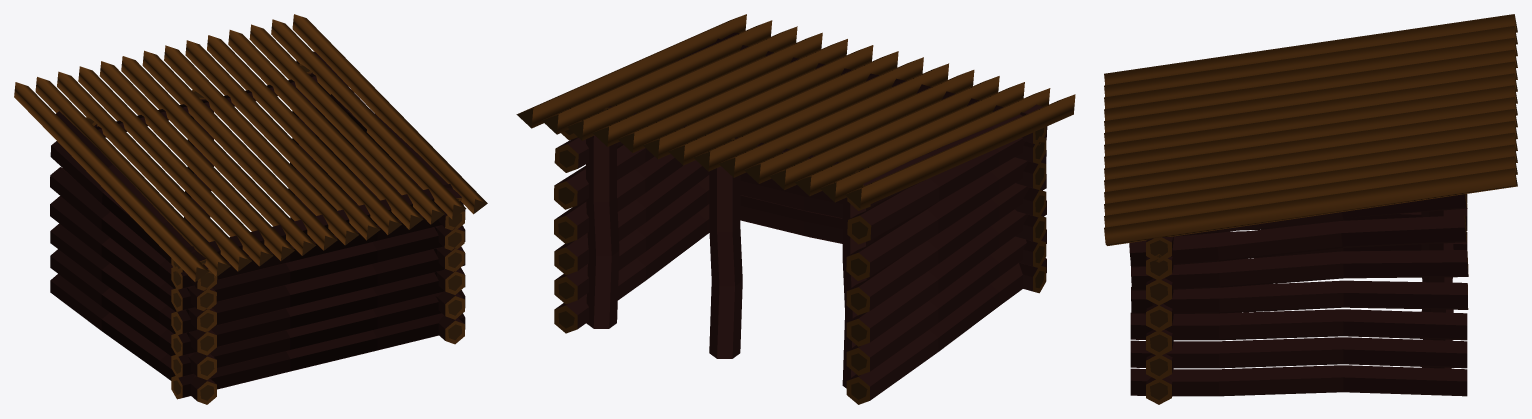
Rendered from pitsGarage_1.fbx.
The picture shows the model from 3 angles, left to right: view 1: azimuth 30°, elevation 25°; view 2: azimuth 150°, elevation 25°; view 3: azimuth 270°, elevation 25°; orthographic projection. The views are drawn at different scales.
Visible parts, largest first — view 1: pitsGarage_1; view 2: pitsGarage_1; view 3: pitsGarage_1.
Boxes of the visible parts, x1,y1,x2,y2 form: pitsGarage_1: (14,14,487,404); pitsGarage_1: (516,14,1075,404); pitsGarage_1: (1104,14,1517,404).
Size of the model in its own units: 7.52 by 8.14 by 5.03.
